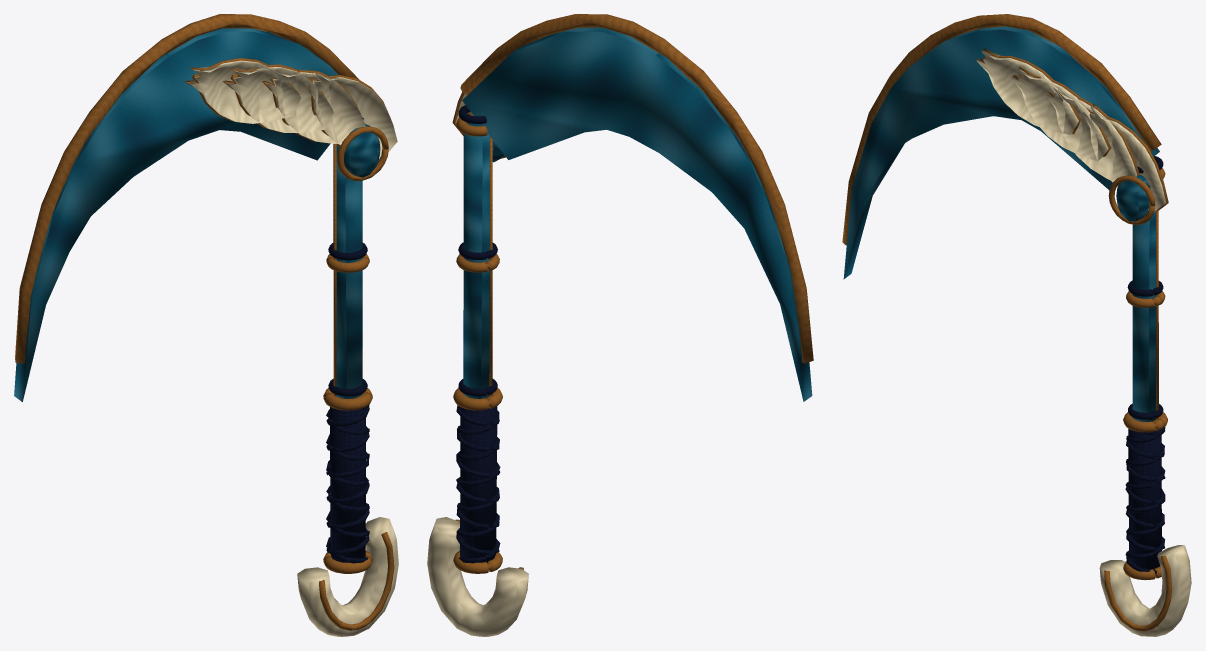
The picture shows the model from 3 angles, left to right: view 1: azimuth 30°, elevation 25°; view 2: azimuth 150°, elevation 25°; view 3: azimuth 330°, elevation 25°; orthographic projection. The views are drawn at different scales.
Visible parts, largest first — view 1: Crescent_water_glass_edge, Aged_gold_crescent_spine, Reservoir_shaft, Hooked_shell_pommel, Grip_core, Blade_scalloped_nacre_3, Blade_scalloped_nacre_2, Blade_scalloped_nacre_1, Blade_scalloped_nacre_0, Cross_woven_cord, Cross_woven_cord.001, Blade_guard_heart (+5 smaller); view 2: Crescent_water_glass_edge, Aged_gold_crescent_spine, Reservoir_shaft, Hooked_shell_pommel, Grip_core, Cross_woven_cord.001, Cross_woven_cord, Shaft_gold_spline.001, Grip_collar.001, Grip_collar; view 3: Crescent_water_glass_edge, Aged_gold_crescent_spine, Reservoir_shaft, Hooked_shell_pommel, Grip_core, Blade_scalloped_nacre_3, Blade_scalloped_nacre_2, Blade_scalloped_nacre_0, Blade_scalloped_nacre_1, Cross_woven_cord.001, Cross_woven_cord, Blade_guard_heart (+4 smaller).
Part boxes in pixels (<box>): Crescent_water_glass_edge: <box>14,28,338,401</box>; Aged_gold_crescent_spine: <box>15,14,358,363</box>; Reservoir_shaft: <box>333,144,362,398</box>; Hooked_shell_pommel: <box>297,517,398,636</box>; Grip_core: <box>330,407,365,562</box>; Blade_scalloped_nacre_3: <box>187,60,301,123</box>; Blade_scalloped_nacre_2: <box>225,67,333,132</box>; Blade_scalloped_nacre_1: <box>265,72,365,143</box>; Blade_scalloped_nacre_0: <box>305,72,397,156</box>; Cross_woven_cord: <box>326,405,369,563</box>; Cross_woven_cord.001: <box>326,407,369,554</box>; Blade_guard_heart: <box>344,124,380,177</box>; Crescent_water_glass_edge: <box>462,27,812,401</box>; Aged_gold_crescent_spine: <box>460,14,813,363</box>; Reservoir_shaft: <box>463,122,489,398</box>; Hooked_shell_pommel: <box>427,517,528,636</box>; Grip_core: <box>460,406,497,562</box>; Cross_woven_cord.001: <box>456,405,500,563</box>; Cross_woven_cord: <box>456,406,500,554</box>; Shaft_gold_spline.001: <box>489,136,492,396</box>; Grip_collar.001: <box>453,388,502,410</box>; Grip_collar: <box>453,550,502,573</box>; Crescent_water_glass_edge: <box>843,26,1159,279</box>; Aged_gold_crescent_spine: <box>842,14,1161,245</box>; Reservoir_shaft: <box>1132,211,1158,421</box>; Hooked_shell_pommel: <box>1099,545,1191,636</box>; Grip_core: <box>1128,428,1161,569</box>; Blade_scalloped_nacre_3: <box>976,50,1078,134</box>; Blade_scalloped_nacre_2: <box>1011,68,1108,161</box>; Blade_scalloped_nacre_0: <box>1082,106,1166,211</box>; Blade_scalloped_nacre_1: <box>1046,88,1137,181</box>; Cross_woven_cord.001: <box>1125,427,1165,558</box>; Cross_woven_cord: <box>1125,430,1165,574</box>; Blade_guard_heart: <box>1116,174,1150,221</box>.
Size of the model in its own units: 0.6625 by 1.08 by 0.0974.
4 materials, 4 textured.
